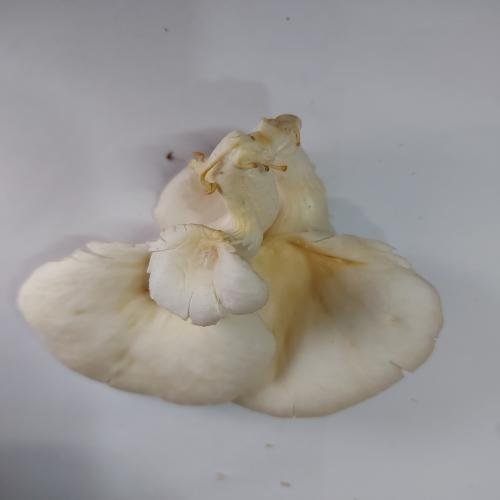Oyster Mushroom: (17, 113, 444, 417)
